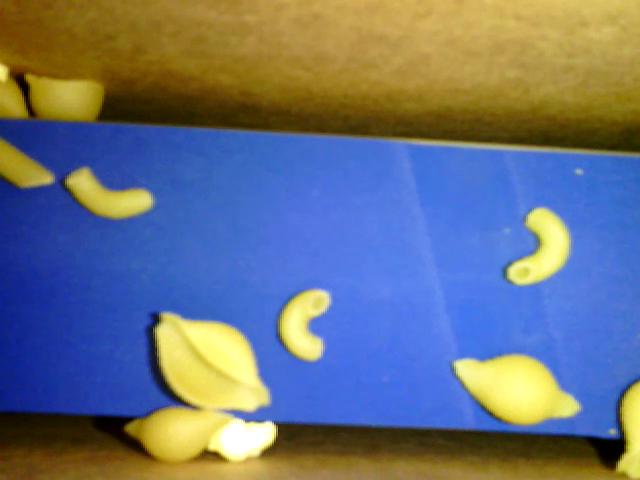elbow: (505, 207, 573, 286), (63, 166, 153, 220), (277, 289, 334, 360)
penne: (1, 140, 59, 191)
shell: (150, 310, 270, 417), (449, 350, 584, 424), (118, 406, 236, 463), (24, 72, 106, 123)
